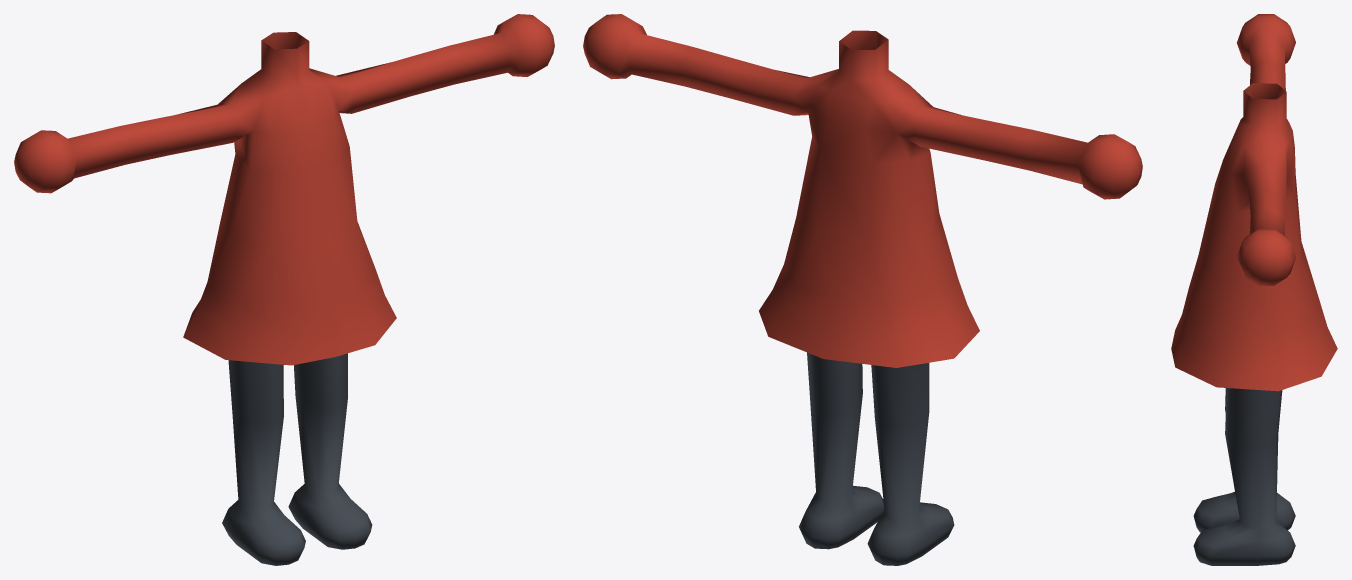
The model's file is Female.obj.
3 renders of one model, left to right at view 1: azimuth 30°, elevation 25°; view 2: azimuth 150°, elevation 25°; view 3: azimuth 270°, elevation 25°, orthographic. The views are drawn at different scales.
Parts seen in each view (by area): view 1: シャツ.001_Mesh_0002.rip_mesh0000.011, ズボン.001_Mesh_0002.rip_mesh0000.010; view 2: シャツ.001_Mesh_0002.rip_mesh0000.011, ズボン.001_Mesh_0002.rip_mesh0000.010; view 3: シャツ.001_Mesh_0002.rip_mesh0000.011, ズボン.001_Mesh_0002.rip_mesh0000.010.
Part boxes in pixels (bbox=[...]): シャツ.001_Mesh_0002.rip_mesh0000.011: bbox=[14, 14, 554, 365]; ズボン.001_Mesh_0002.rip_mesh0000.010: bbox=[222, 353, 372, 565]; シャツ.001_Mesh_0002.rip_mesh0000.011: bbox=[583, 14, 1142, 367]; ズボン.001_Mesh_0002.rip_mesh0000.010: bbox=[799, 352, 954, 565]; シャツ.001_Mesh_0002.rip_mesh0000.011: bbox=[1171, 14, 1337, 391]; ズボン.001_Mesh_0002.rip_mesh0000.010: bbox=[1193, 388, 1295, 565].
Size of the model in its own units: 1.42 by 1.25 by 0.4175.
2 materials, 2 textured.
